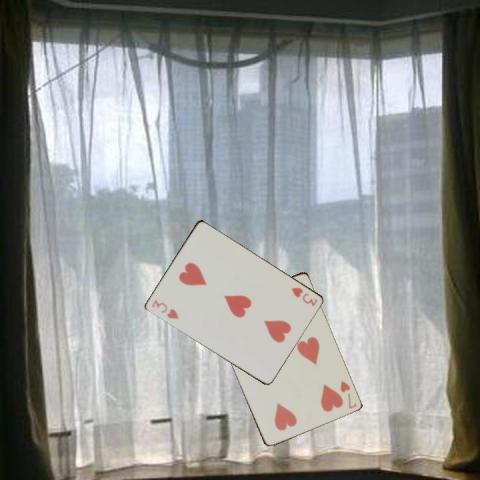3h: (149, 296, 180, 320), (288, 285, 318, 307)
7h: (337, 377, 358, 410)
